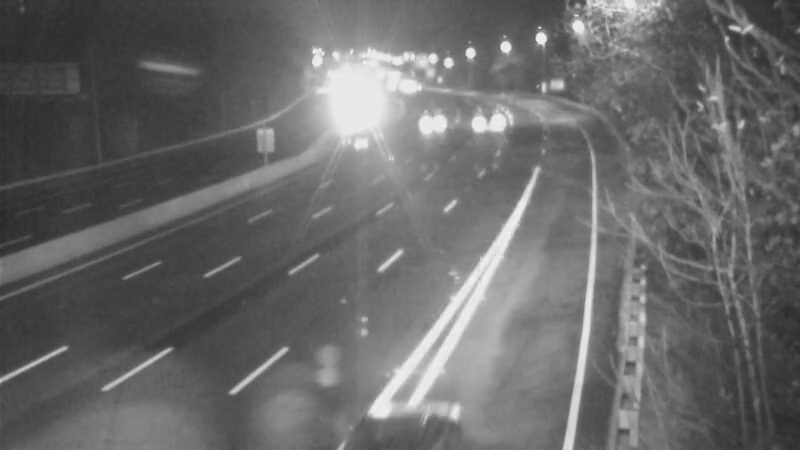vehicle: (403, 97, 453, 147), (462, 95, 512, 145)
